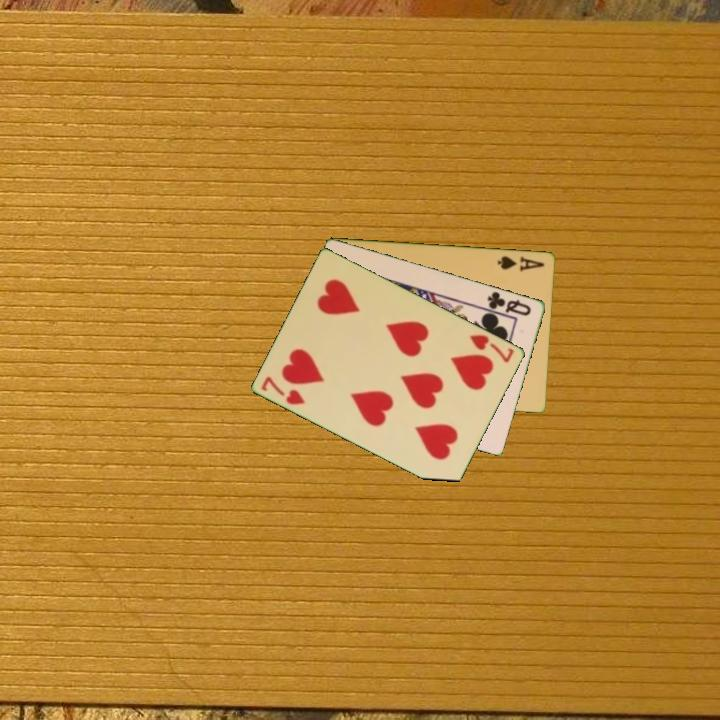7h: (258, 372, 308, 408), (466, 331, 517, 366)
As: (494, 252, 547, 274)
Qc: (484, 288, 534, 318)
